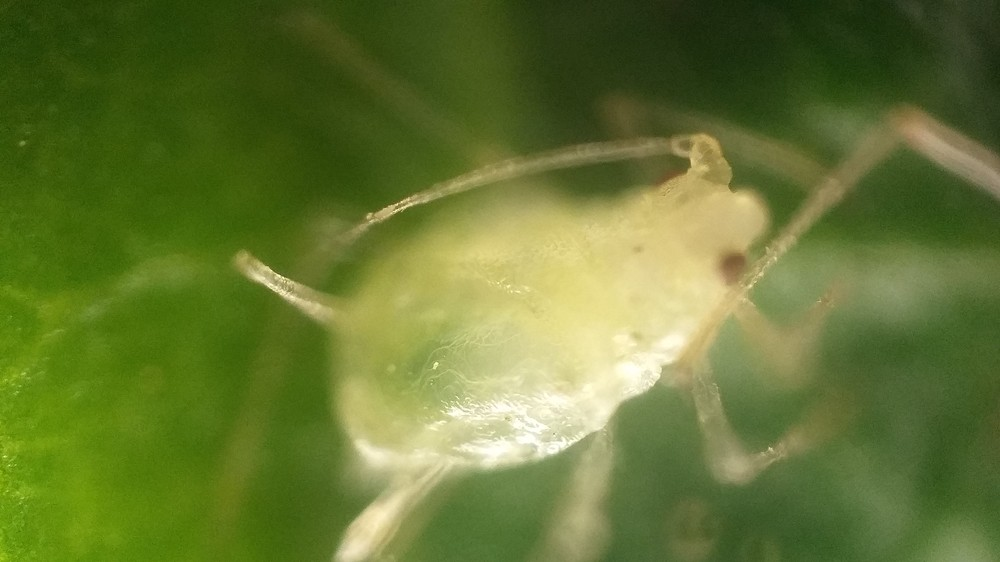Pulgon: (227, 46, 981, 550)
